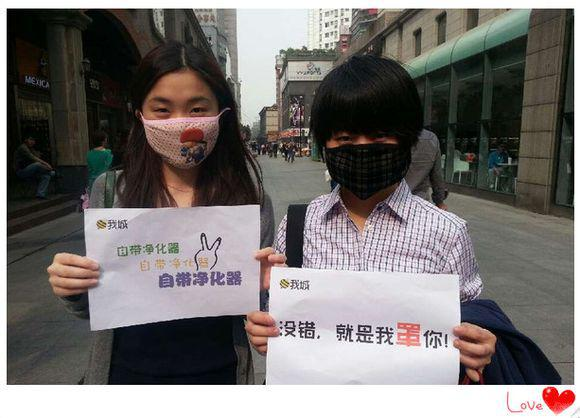OK: (144, 87, 225, 168), (327, 123, 403, 196)
